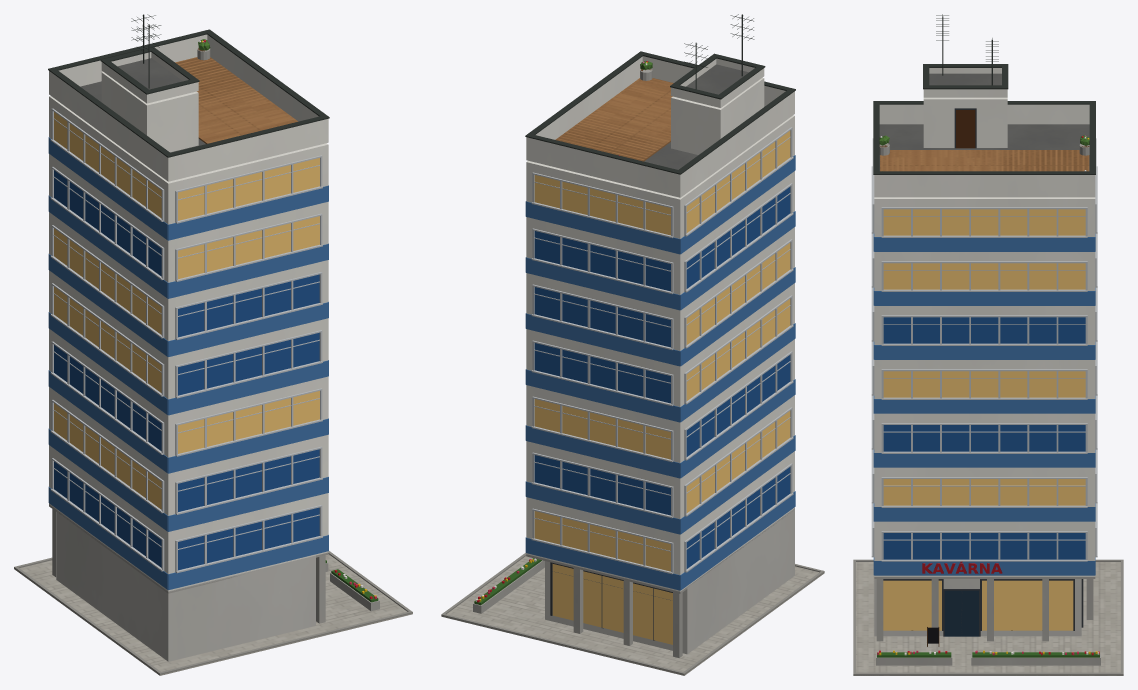
Rendered from dum_00_vysoky_0.glb.
3 renders of one model, left to right at view 1: azimuth 30°, elevation 25°; view 2: azimuth 150°, elevation 25°; view 3: azimuth 270°, elevation 25°, orthographic. The views are drawn at different scales.
Visible parts, largest first — view 1: dum, noc; view 2: dum, noc; view 3: dum, noc.
Part boxes in pixels (bbox=[...]): dum: bbox=[14, 14, 412, 675]; noc: bbox=[54, 112, 319, 509]; dum: bbox=[441, 14, 824, 675]; noc: bbox=[534, 131, 790, 644]; dum: bbox=[853, 14, 1123, 675]; noc: bbox=[883, 209, 1085, 630].
Bounding box in the file's own units: 14.05 × 32.22 × 14.05.
1 material, 1 textured.
